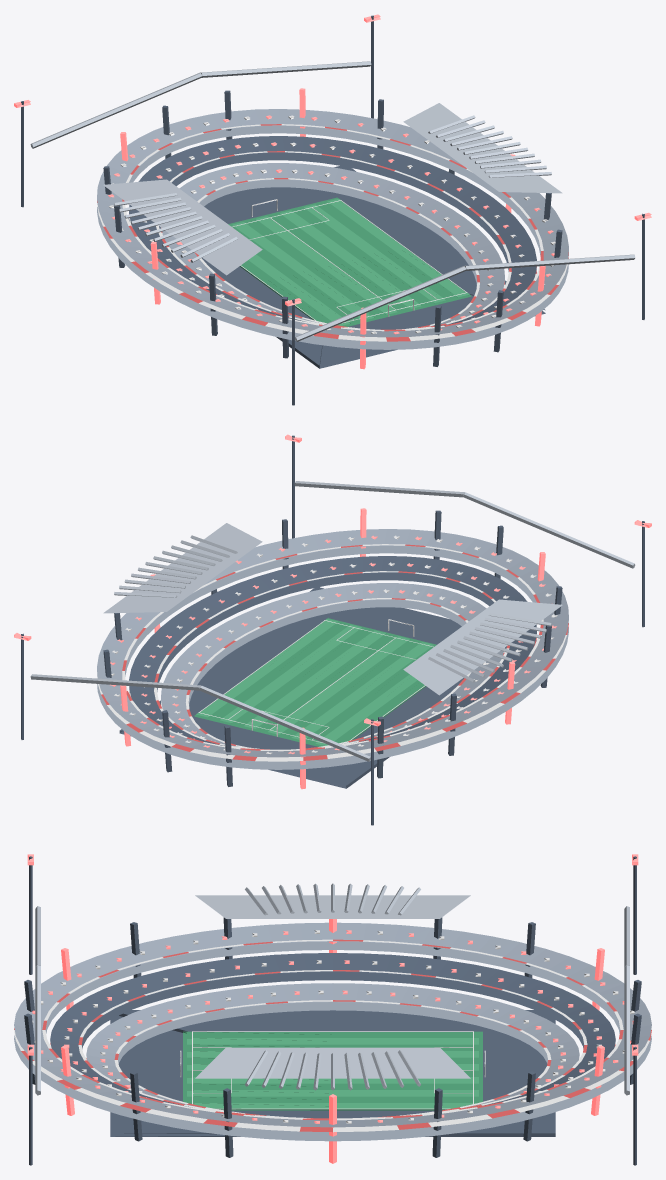
Rendered from saitama-stadium.glb.
The picture shows the model from 3 angles, top to bottom: view 1: azimuth 30°, elevation 25°; view 2: azimuth 150°, elevation 25°; view 3: azimuth 270°, elevation 25°; orthographic projection. The views are drawn at different scales.
Parts seen in each view (by area): view 1: Saitama Stadium 2002; view 2: Saitama Stadium 2002; view 3: Saitama Stadium 2002.
Part boxes in pixels (left/top/right/bottom): Saitama Stadium 2002: left=14, top=14, right=651, bottom=405; Saitama Stadium 2002: left=14, top=434, right=651, bottom=825; Saitama Stadium 2002: left=14, top=854, right=651, bottom=1165.
Bounding box in the file's own units: 63.03 × 17.65 × 83.03.
